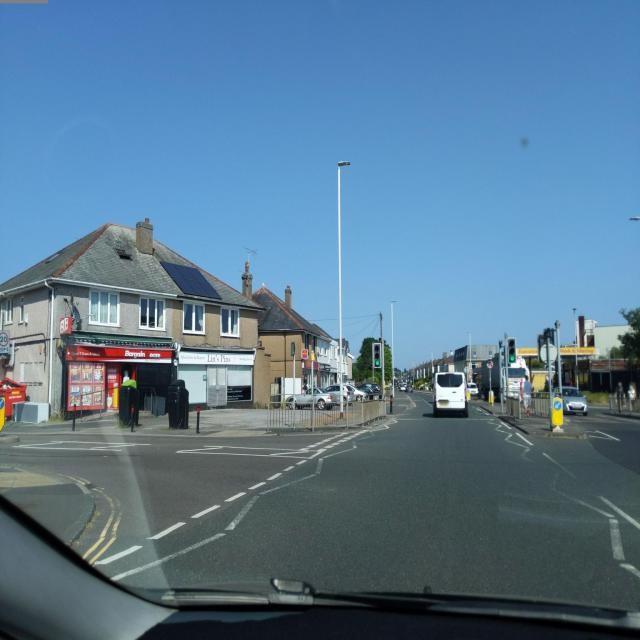car: (432, 371, 470, 418), (284, 385, 335, 411), (552, 386, 588, 416), (323, 382, 355, 406), (356, 382, 382, 400), (467, 382, 479, 398), (398, 382, 408, 392)
